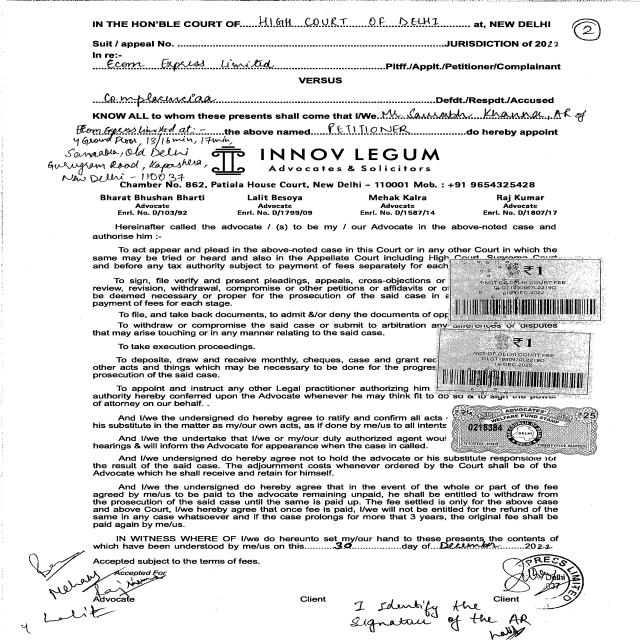page-number: (562, 4, 638, 98)
